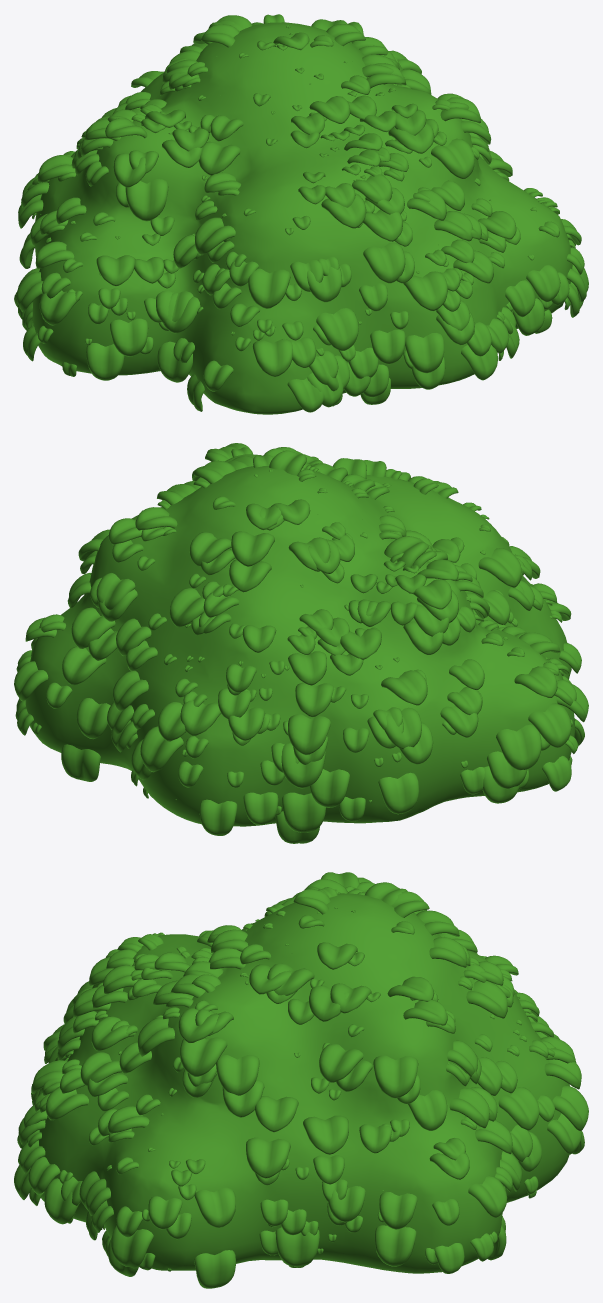
The model's file is Bush.glb.
The picture shows the model from 3 angles, top to bottom: view 1: azimuth 30°, elevation 25°; view 2: azimuth 150°, elevation 25°; view 3: azimuth 270°, elevation 25°; orthographic projection. The views are drawn at different scales.
Parts seen in each view (by area): view 1: Merged_0; view 2: Merged_0; view 3: Merged_0.
Part boxes in pixels (x1,y1,x2,y2): Merged_0: (14, 14, 588, 414); Merged_0: (14, 443, 588, 843); Merged_0: (14, 872, 588, 1288).
Bounding box in the file's own units: 1 × 0.556 × 0.9548.
